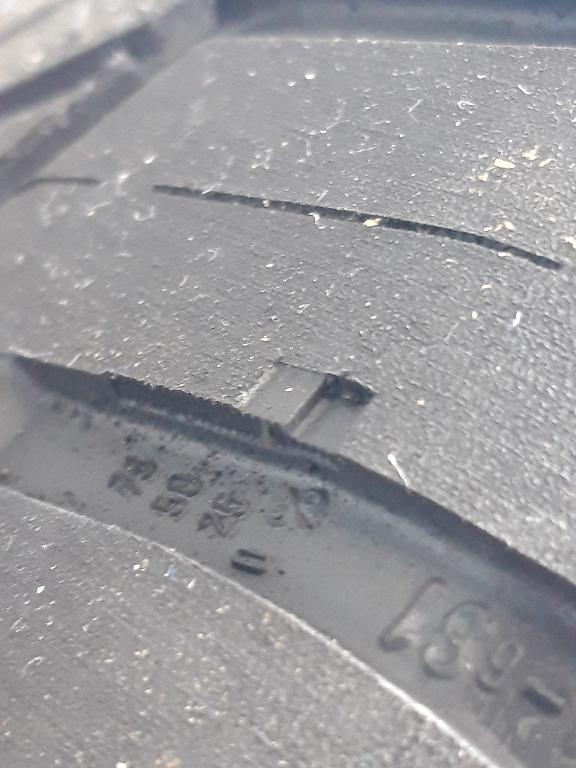temoin:25: (206, 342, 403, 498)
